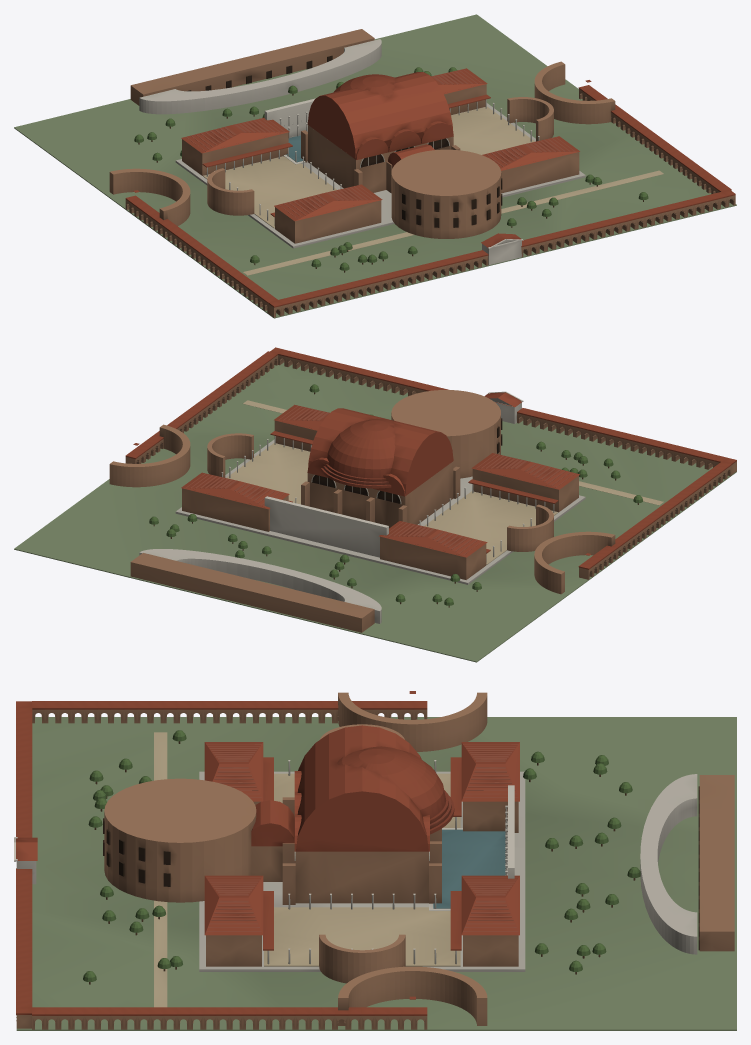
Rendered from baths-of-caracalla.glb.
The picture shows the model from 3 angles, top to bottom: view 1: azimuth 30°, elevation 25°; view 2: azimuth 150°, elevation 25°; view 3: azimuth 270°, elevation 25°; orthographic projection. The views are drawn at different scales.
Parts seen in each view (by area): view 1: p0_precinct, p1_halls, p2_domes; view 2: p0_precinct, p1_halls, p2_domes; view 3: p0_precinct, p1_halls, p2_domes.
Boxes of the visible parts, left/top/right/bottom form: p0_precinct: left=14, top=14, right=736, bottom=318; p1_halls: left=134, top=39, right=648, bottom=272; p2_domes: left=133, top=68, right=591, bottom=248; p0_precinct: left=14, top=347, right=736, bottom=662; p1_halls: left=139, top=384, right=643, bottom=623; p2_domes: left=133, top=391, right=591, bottom=557; p0_precinct: left=16, top=692, right=736, bottom=1030; p1_halls: left=83, top=724, right=697, bottom=984; p2_domes: left=14, top=691, right=519, bottom=999.
Size of the model in its own units: 337 by 60.07 by 329.
